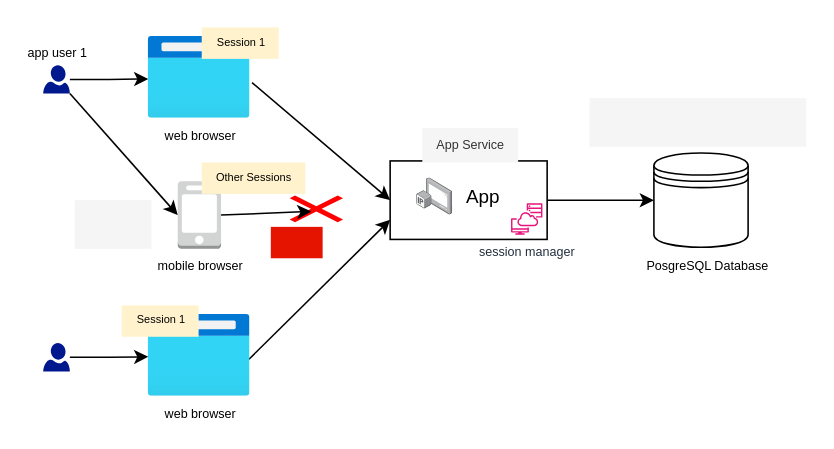
The diagram is 834 pixels wide and 449 high, and some of its shapes have lost their labels. The shapes that lost their labels are listed below. From the top down, each one's box as (x1, y1, x2, y2) in pixels, then its label:
(589, 97, 805, 146): session check is done against the Database Table
(652, 152, 748, 247): PostgreSQL
(74, 199, 151, 248): multiple sessions
(270, 226, 322, 257): error
(42, 342, 69, 371): app user 2
